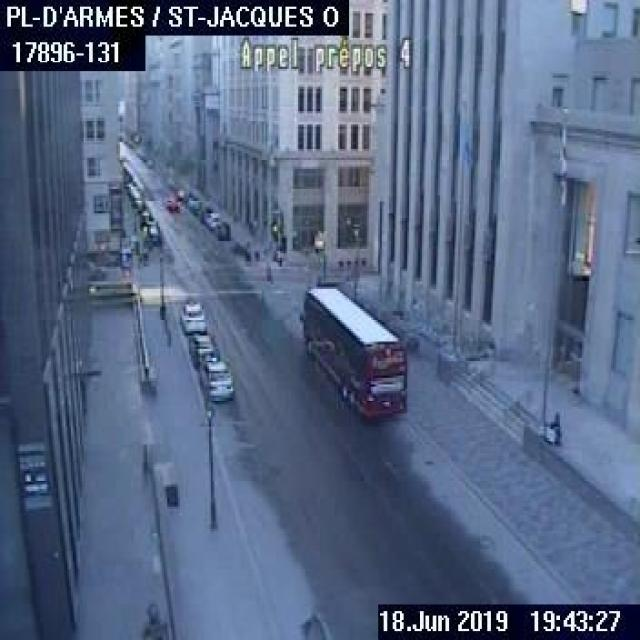bus: (298, 285, 406, 414)
pedestrian: (548, 408, 560, 444)
vehicle: (197, 356, 233, 402), (179, 297, 206, 334), (188, 332, 216, 367), (141, 220, 158, 242), (203, 210, 220, 228), (213, 220, 229, 238), (163, 195, 177, 210)
